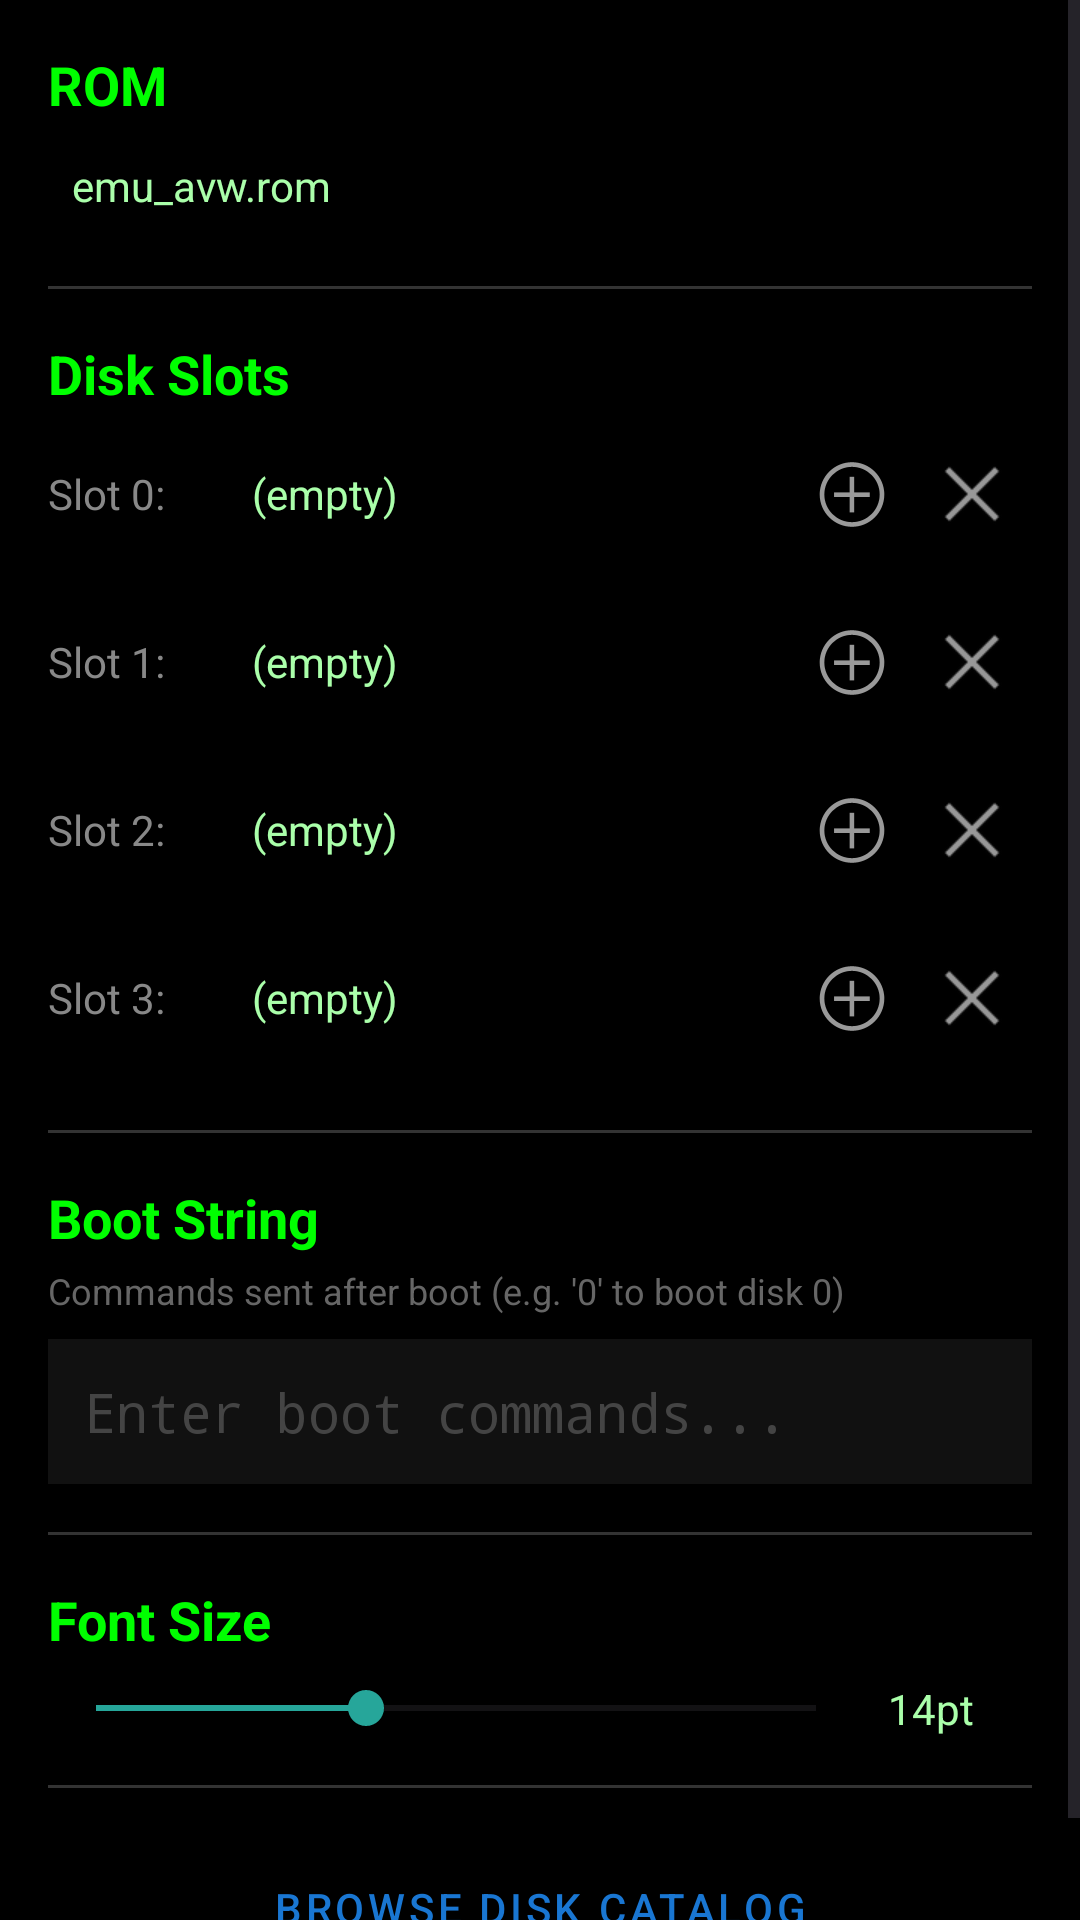

Icon click points for this 1080w x 1920h phone screenshot, format (x,y):
Clear slot: (972,494), (972,662), (972,830), (972,998)
Select disk: (852,494), (852,662), (852,830), (852,998)
